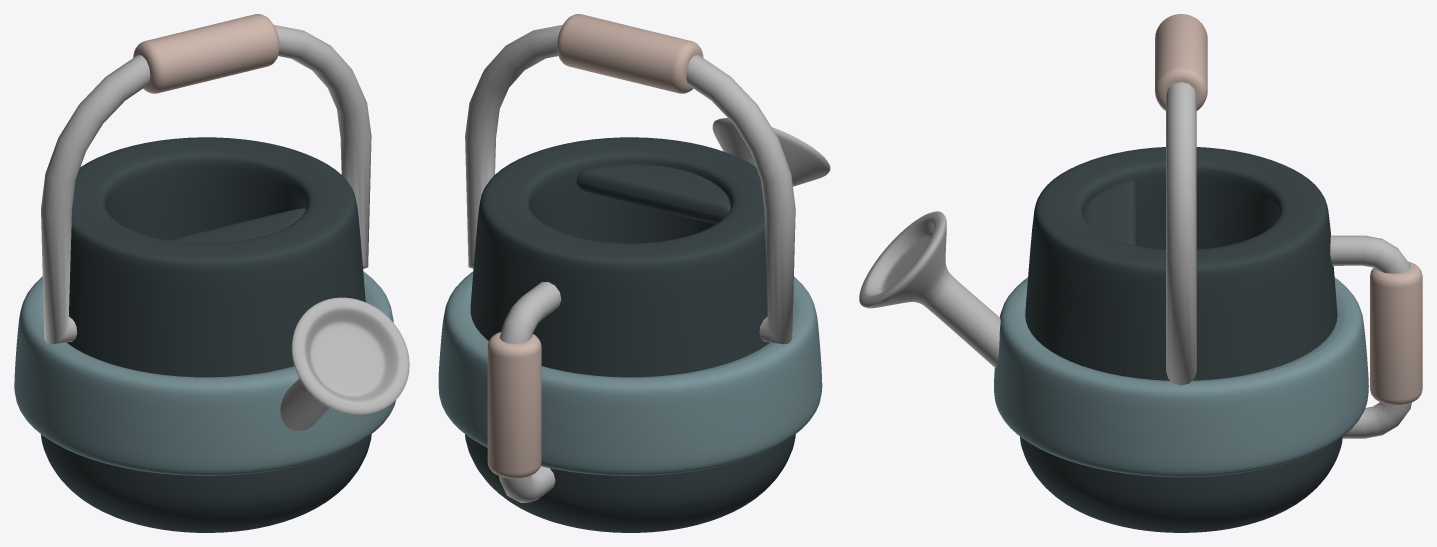
File: Tool_WateringCan.glb
3 views of the same model, side by side, from view 1: azimuth 30°, elevation 25°; view 2: azimuth 150°, elevation 25°; view 3: azimuth 270°, elevation 25° (orthographic). The views are drawn at different scales.
Parts seen in each view (by area): view 1: Tool_WateringCan_Body, Tool_WateringCan_Band_Plastic, Tool_WateringCan_Handle_Top, Tool_WateringCan_Spout; view 2: Tool_WateringCan_Body, Tool_WateringCan_Band_Plastic, Tool_WateringCan_Handle_Top, Tool_WateringCan_Handle_Side, Tool_WateringCan_Spout; view 3: Tool_WateringCan_Body, Tool_WateringCan_Band_Plastic, Tool_WateringCan_Handle_Top, Tool_WateringCan_Handle_Side, Tool_WateringCan_Spout.
Boxes of the visible parts, bbox=[...] form: Tool_WateringCan_Body: bbox=[40, 137, 371, 532]; Tool_WateringCan_Band_Plastic: bbox=[14, 271, 395, 475]; Tool_WateringCan_Handle_Top: bbox=[41, 14, 371, 344]; Tool_WateringCan_Spout: bbox=[280, 297, 409, 430]; Tool_WateringCan_Body: bbox=[465, 137, 795, 532]; Tool_WateringCan_Band_Plastic: bbox=[438, 271, 822, 475]; Tool_WateringCan_Handle_Top: bbox=[465, 14, 795, 344]; Tool_WateringCan_Handle_Side: bbox=[487, 282, 561, 502]; Tool_WateringCan_Spout: bbox=[712, 118, 830, 186]; Tool_WateringCan_Body: bbox=[1020, 147, 1342, 532]; Tool_WateringCan_Band_Plastic: bbox=[994, 277, 1368, 477]; Tool_WateringCan_Handle_Top: bbox=[1155, 14, 1207, 385]; Tool_WateringCan_Handle_Side: bbox=[1330, 235, 1422, 438]; Tool_WateringCan_Spout: bbox=[859, 211, 1000, 368].
Bounding box in the file's own units: 1.28 × 1.69 × 1.92.
